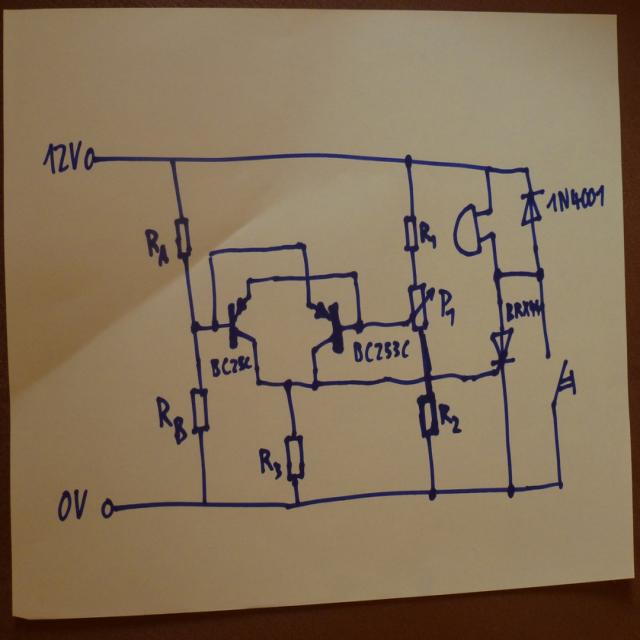crossover: (420, 371, 434, 384), (301, 271, 314, 284)
diode: (519, 187, 545, 226)
junction: (352, 318, 366, 335), (189, 318, 202, 335), (491, 265, 502, 283), (534, 265, 545, 283), (209, 318, 221, 334), (282, 376, 294, 392), (309, 377, 321, 393), (297, 238, 309, 253), (402, 152, 413, 168), (505, 482, 515, 499), (427, 486, 437, 502), (166, 153, 178, 165), (292, 498, 302, 511), (487, 228, 497, 241), (350, 267, 359, 281), (555, 478, 564, 491), (482, 162, 491, 175), (522, 163, 530, 176), (486, 204, 494, 217), (245, 274, 253, 287), (199, 499, 209, 508), (206, 248, 214, 259), (254, 376, 262, 386)
resistor: (406, 281, 434, 334), (415, 390, 439, 440), (283, 432, 305, 485), (188, 386, 210, 436), (172, 215, 192, 261), (402, 213, 419, 252)
switch: (545, 354, 576, 405)
terminal: (82, 144, 96, 170), (100, 496, 116, 518)
text: (155, 394, 188, 446), (546, 184, 605, 212), (41, 139, 82, 174), (351, 338, 410, 362), (56, 487, 88, 522), (209, 354, 253, 378), (144, 227, 170, 267), (257, 446, 283, 481), (504, 298, 540, 321), (438, 401, 462, 434), (437, 287, 455, 327), (418, 219, 437, 250)
thyristor: (488, 325, 517, 377)
transistor: (305, 299, 344, 355), (226, 292, 258, 349)
